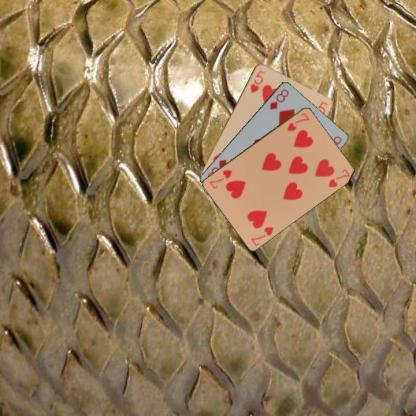5h: (248, 68, 266, 94)
7h: (284, 110, 311, 132), (249, 224, 274, 246)
8d: (267, 86, 290, 111)
